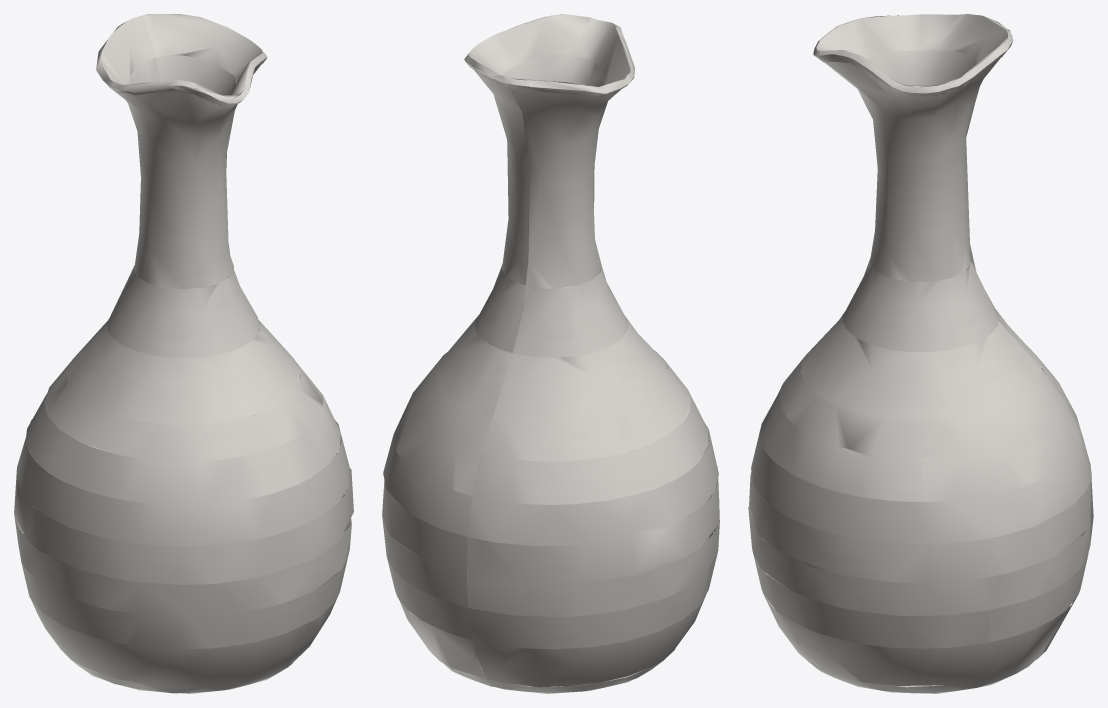
Rendered from ceramic_vase_01.glb.
The picture shows the model from 3 angles, left to right: view 1: azimuth 30°, elevation 25°; view 2: azimuth 150°, elevation 25°; view 3: azimuth 270°, elevation 25°; orthographic projection.
Visible parts, largest first — view 1: c01_ceramic, c00_ceramic; view 2: c01_ceramic, c00_ceramic; view 3: c01_ceramic, c00_ceramic.
Part boxes in pixels (x1,y1,x2,y2): c01_ceramic: [14, 14, 353, 693]; c00_ceramic: [40, 55, 336, 502]; c01_ceramic: [382, 14, 719, 693]; c00_ceramic: [468, 54, 705, 531]; c01_ceramic: [748, 14, 1093, 693]; c00_ceramic: [766, 50, 976, 501].
Bounding box in the file's own units: 0.2047 × 0.4005 × 0.2046.
1 material, 1 textured.
